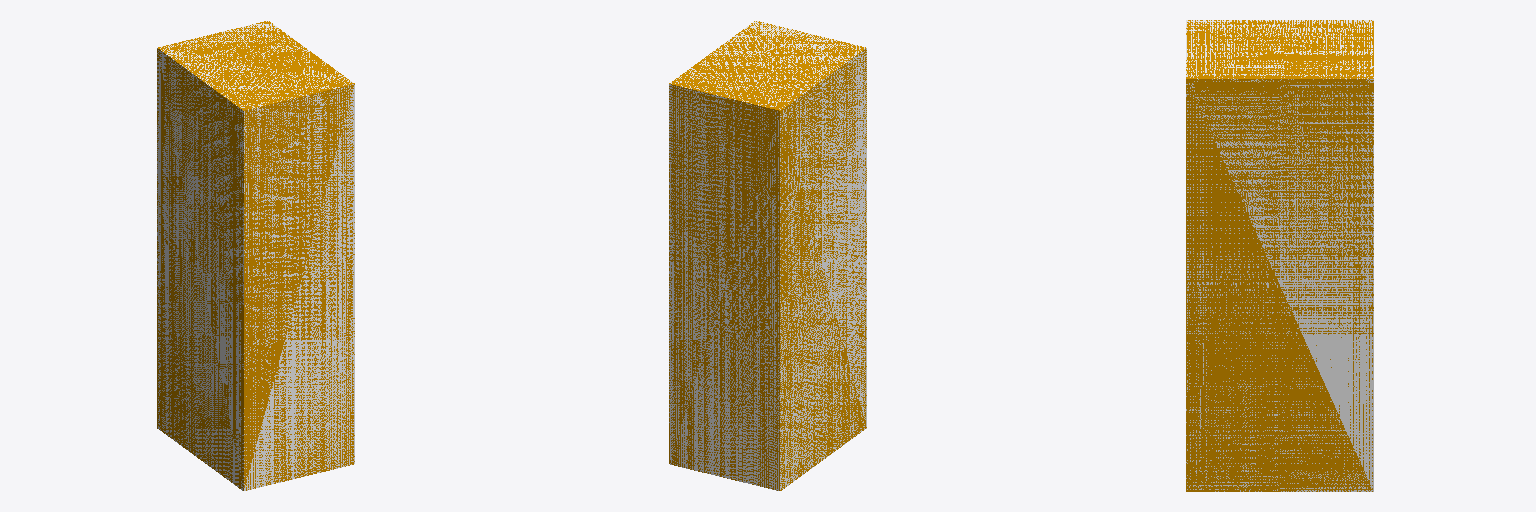
URDF robot description (my_object):
<?xml version="1.0" ?> 
<robot name="my_object" static="true">
  <link name="base_link">
  <inertial>
    <mass value="1.550" />
    <origin xyz="0 0 0.0" />
    <inertia ixx="1.0" ixy="0.0" ixz="0.0" iyy="1.0" iyz="0.0" izz="1.0"/>
  </inertial>
  <visual>
   <origin xyz="0 0 0.0" rpy="0 0 0" />
   <geometry>
     <mesh filename="package://cob_gazebo_objects/Media/models/orange_juice.dae"/>
   </geometry>
  </visual>
  <collision>
   <origin xyz="0 0.00 0" rpy="0 0 0" />
   <geometry>
     <box size="0.07 0.095 0.23" />
   </geometry>
  </collision>     
  </link>


<gazebo reference="base_link">
  <mu1>50.0</mu1>
  <mu2>50.0</mu2>
  <kp>1000000.0</kp>
  <kd>1.0</kd>
</gazebo>
</robot>

--- What the picture shows (computed from the rendered views, not written in the file) ---
Views: 3 orthographic renders of the robot side by side, from view 1: azimuth 30°, elevation 25°; view 2: azimuth 150°, elevation 25°; view 3: azimuth 270°, elevation 25°.
Model my_object with 1 links and 0 joints (none), rooted at base_link, posed every joint at zero.
Links seen in each view (by area): view 1: base_link; view 2: base_link; view 3: base_link.
Link boxes in pixels (x1,y1,x2,y2): base_link: (157,21,354,490); base_link: (669,21,866,490); base_link: (1186,20,1373,491).
Bounding box of the posed robot: 0.0018 × 0.0024 × 0.0058 m (x, y, z).
Meshes: 1 distinct files referenced, 1 mesh visuals loaded (1 Collada DAE).